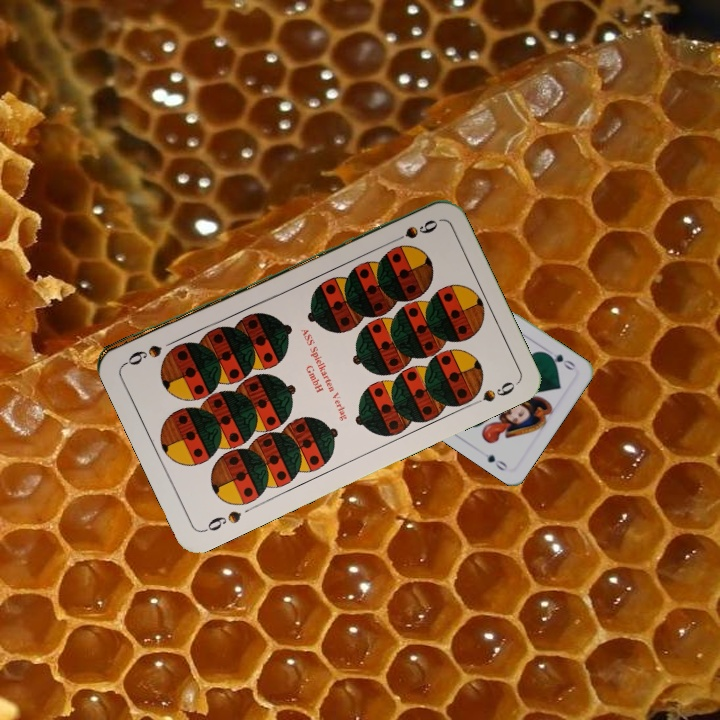GO: (541, 348, 578, 373)
S9: (384, 215, 441, 247), (199, 506, 244, 535)
